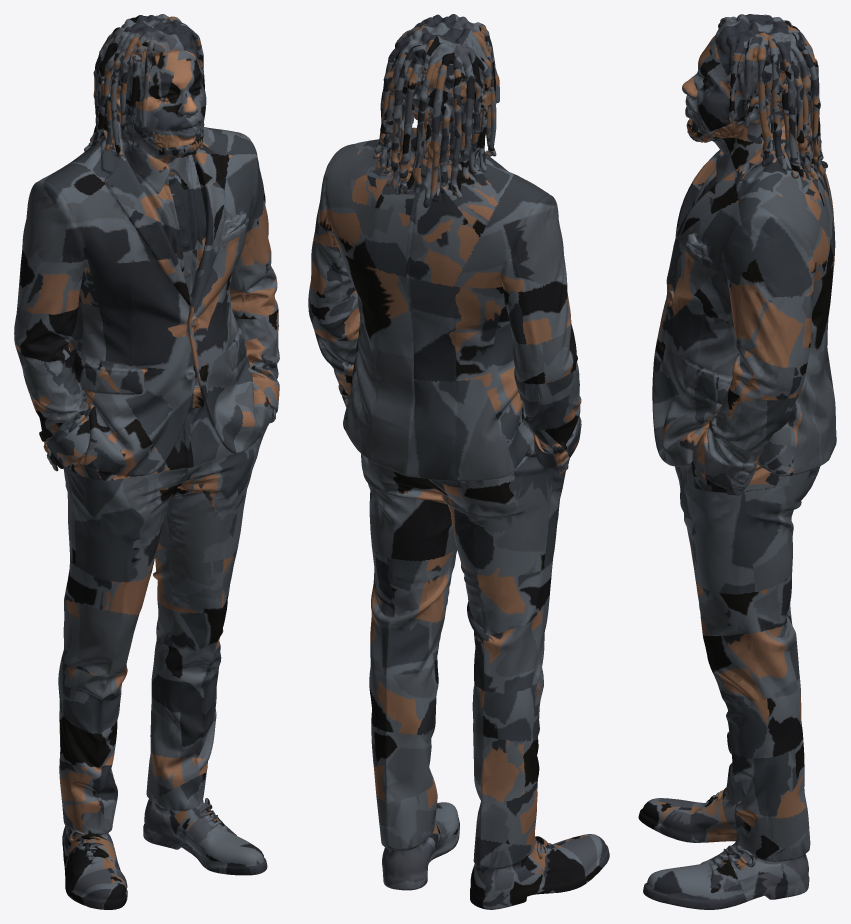
File: marquis-v14.glb
The picture shows the model from 3 angles, left to right: view 1: azimuth 30°, elevation 25°; view 2: azimuth 150°, elevation 25°; view 3: azimuth 270°, elevation 25°; orthographic projection. The views are drawn at different scales.
Parts seen in each view (by area): view 1: mesh_node; view 2: mesh_node; view 3: mesh_node.
Part boxes in pixels (left/top/right/bottom): mesh_node: left=14, top=14, right=279, bottom=909; mesh_node: left=308, top=14, right=609, bottom=909; mesh_node: left=638, top=14, right=836, bottom=909.
Size of the model in its own units: 0.6007 by 1.9 by 0.3984.
1 material, 1 textured.
